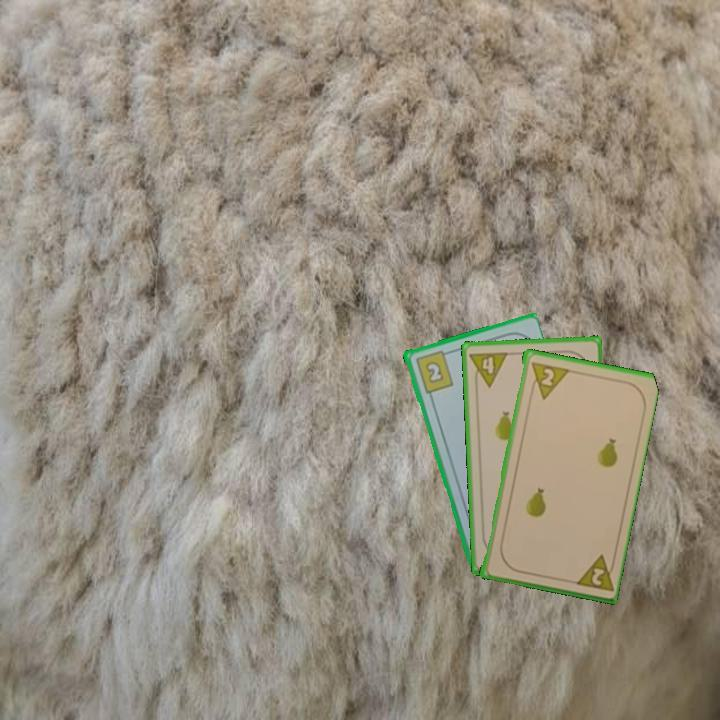2b: (412, 347, 456, 396)
2p: (570, 551, 618, 594), (527, 358, 570, 402)
4p: (466, 348, 511, 390)
